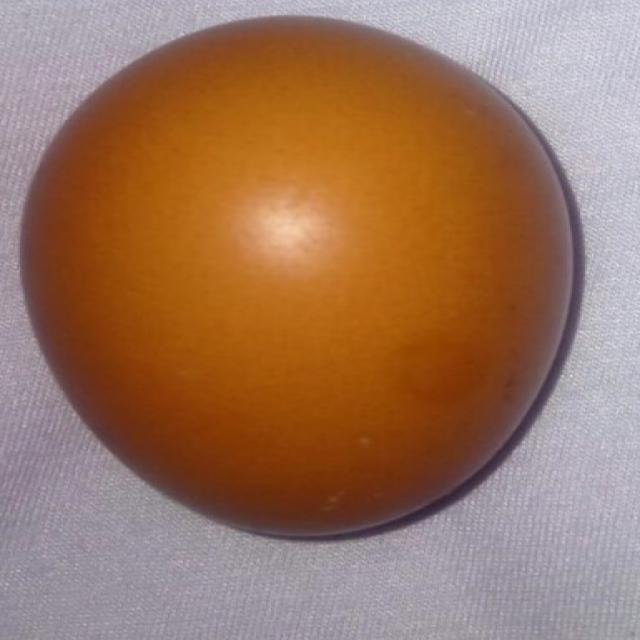fresh: (5, 4, 588, 543)
